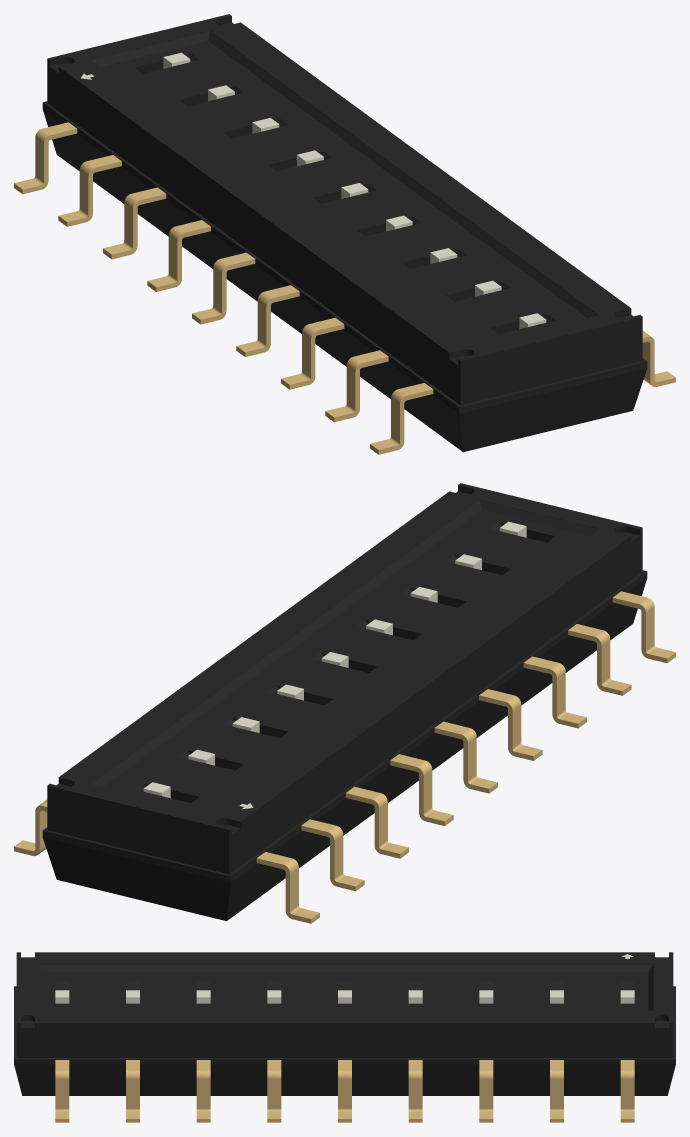
Rendered from kc-sw_dip_spstx09_slide_omron_a6s-910x_w8.9mm_p2.54mm.glb.
The picture shows the model from 3 angles, top to bottom: view 1: azimuth 30°, elevation 25°; view 2: azimuth 150°, elevation 25°; view 3: azimuth 270°, elevation 25°; orthographic projection. The views are drawn at different scales.
Visible parts, largest first — view 1: 0_0_0_0, 0.75_0.5_0.25_0.9, 0.75_0.75_0.6666666666666666_0; view 2: 0_0_0_0, 0.75_0.5_0.25_0.9, 0.75_0.75_0.6666666666666666_0; view 3: 0_0_0_0, 0.75_0.5_0.25_0.9, 0.75_0.75_0.6666666666666666_0.
Part boxes in pixels (left/top/right/bottom): 0_0_0_0: left=42, top=14, right=647, bottom=452; 0.75_0.5_0.25_0.9: left=14, top=122, right=675, bottom=454; 0.75_0.75_0.6666666666666666_0: left=81, top=52, right=546, bottom=329; 0_0_0_0: left=42, top=483, right=647, bottom=921; 0.75_0.5_0.25_0.9: left=14, top=591, right=675, bottom=923; 0.75_0.75_0.6666666666666666_0: left=143, top=521, right=526, bottom=808; 0_0_0_0: left=14, top=952, right=675, bottom=1095; 0.75_0.5_0.25_0.9: left=55, top=1060, right=634, bottom=1122; 0.75_0.75_0.6666666666666666_0: left=55, top=954, right=634, bottom=1003.
Size of the model in its own units: 0.9801 by 0.3075 by 2.38.
